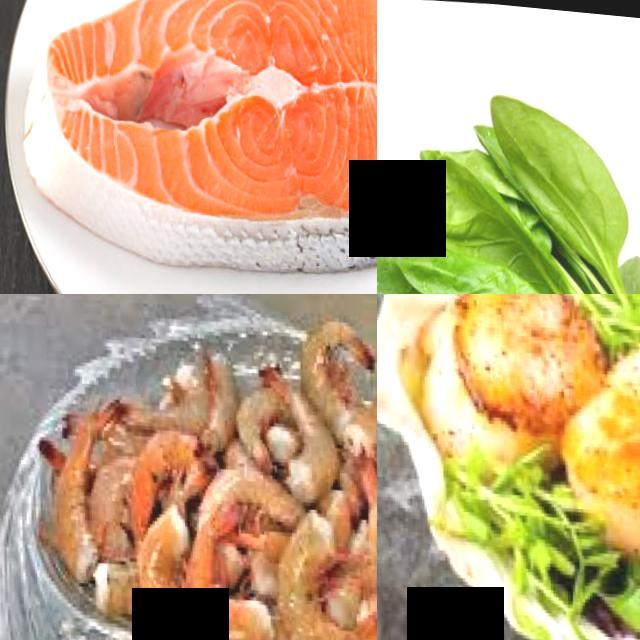salmon: (20, 0, 377, 288)
sea scallops: (418, 294, 582, 458), (594, 351, 640, 556)
shrimp: (184, 541, 278, 640), (46, 408, 102, 574), (275, 504, 337, 640), (198, 456, 293, 536), (286, 376, 340, 501), (301, 303, 372, 397), (196, 342, 240, 451), (348, 443, 377, 580), (237, 377, 274, 462)
spinach: (490, 79, 631, 249), (396, 214, 528, 294), (424, 138, 502, 237)
